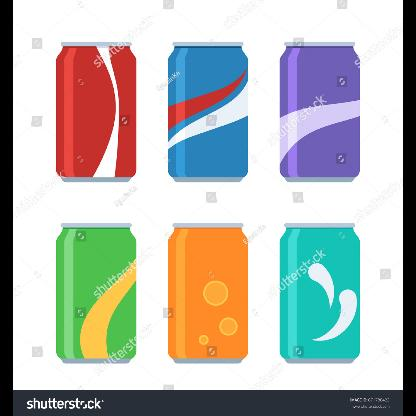Tin_Can: (264, 220, 372, 366), (162, 36, 258, 190), (158, 214, 250, 374), (50, 223, 146, 367), (52, 36, 140, 190), (276, 40, 364, 188)
